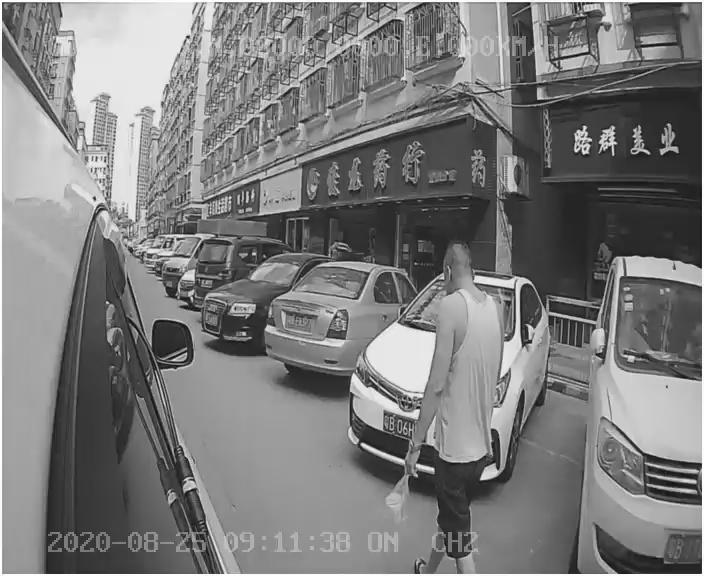person: (397, 248, 509, 532)
